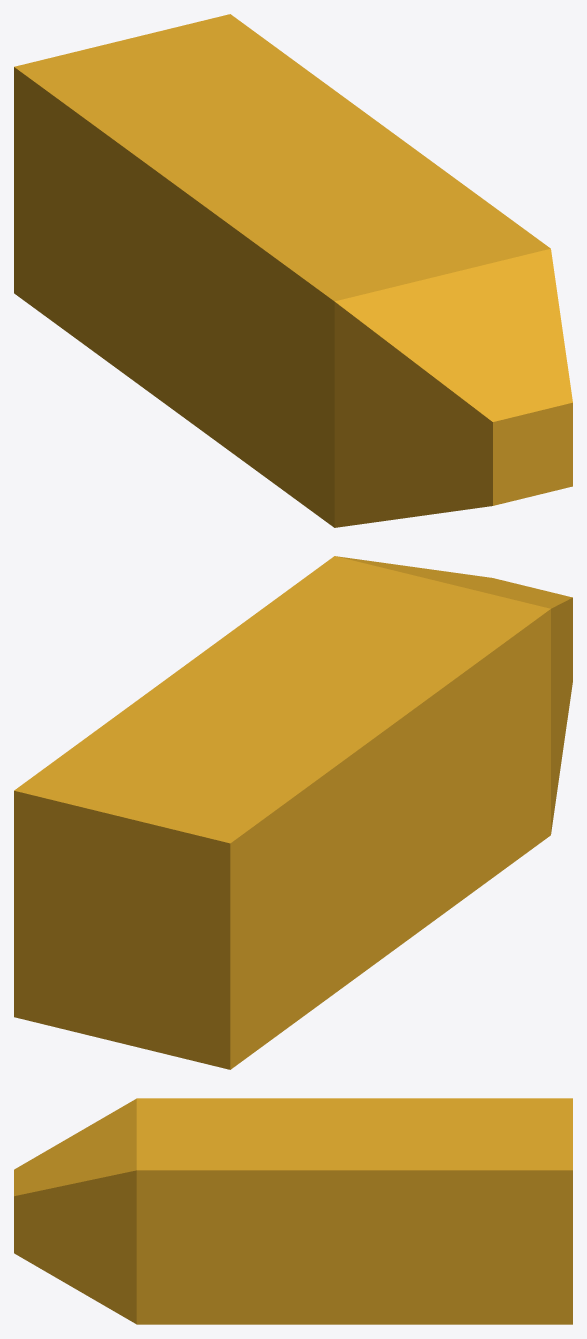
The model's file is bullet.fbx.
3 views of the same model, one above another, from view 1: azimuth 30°, elevation 25°; view 2: azimuth 150°, elevation 25°; view 3: azimuth 270°, elevation 25° (orthographic). The views are drawn at different scales.
Visible parts, largest first — view 1: Cube; view 2: Cube; view 3: Cube.
Boxes of the visible parts, left/top/right/bottom form: Cube: left=14, top=14, right=572, bottom=527; Cube: left=14, top=556, right=572, bottom=1069; Cube: left=14, top=1098, right=572, bottom=1324.
Bounding box in the file's own units: 75.36 × 75.36 × 248.
